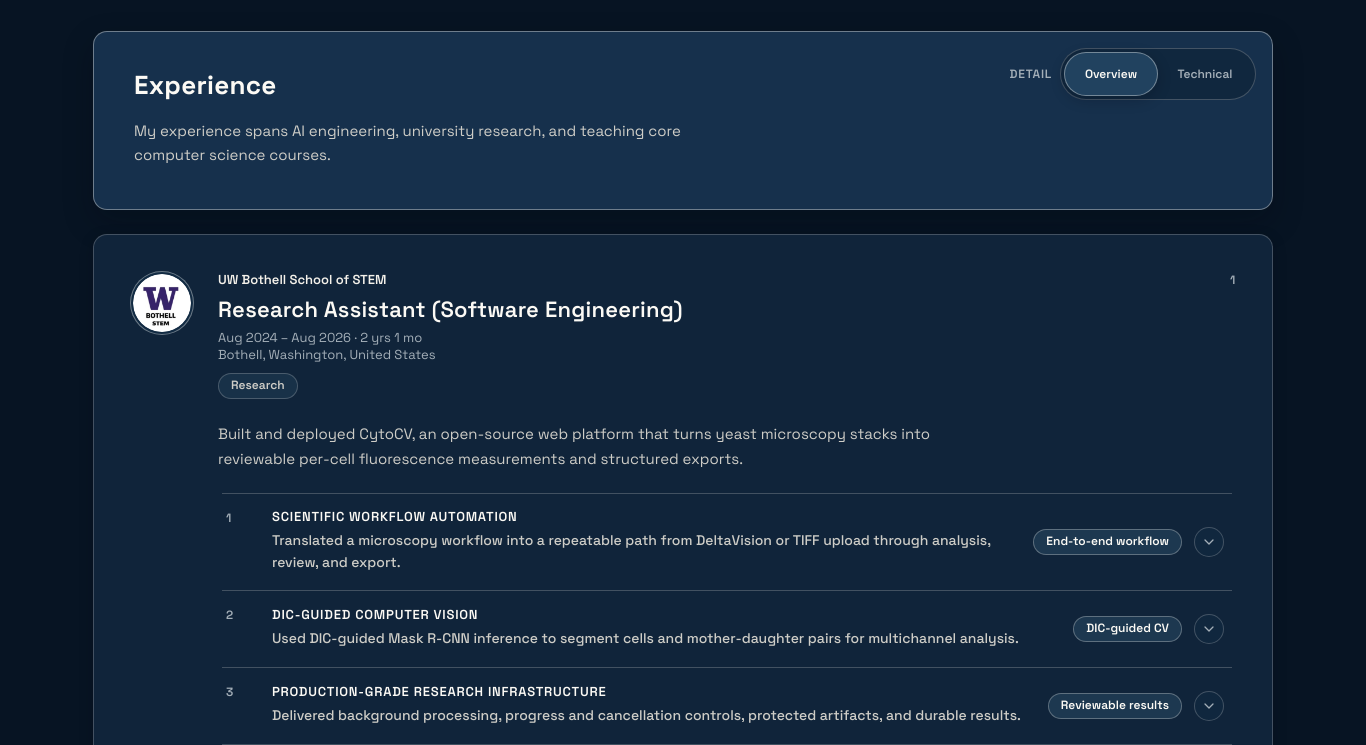
Test case: ExperienceShowcase › keeps one selected chapter across roles and closes it with Escape or a noninteractive card click
Click the button "Scientific Workflow Automation": (727, 542) [218,494,1236,590]
(page scrolled)
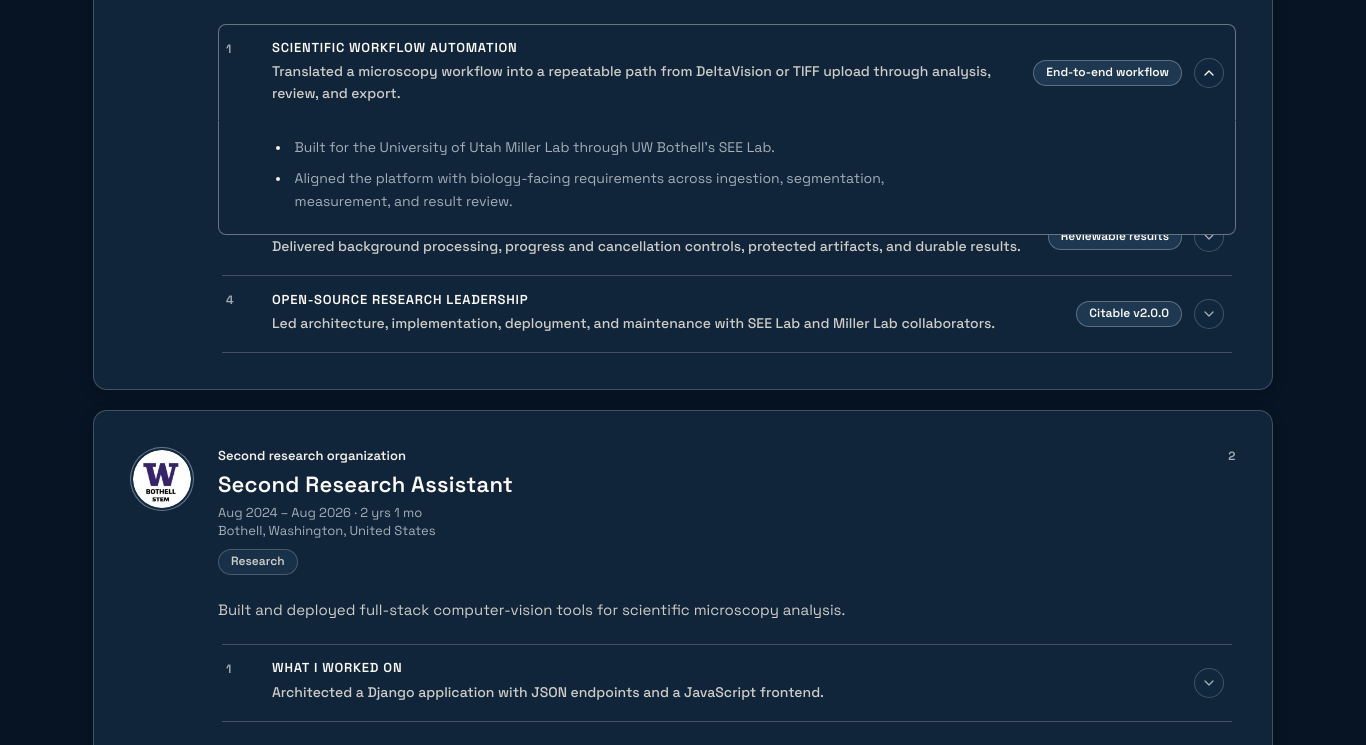
Expected: the button "Scientific Workflow Automation" is expanded, [218,25,1236,121]
Click the button with class "detail-section__trigger" that starts with "What I worked on": (727, 682) [218,644,1236,720]
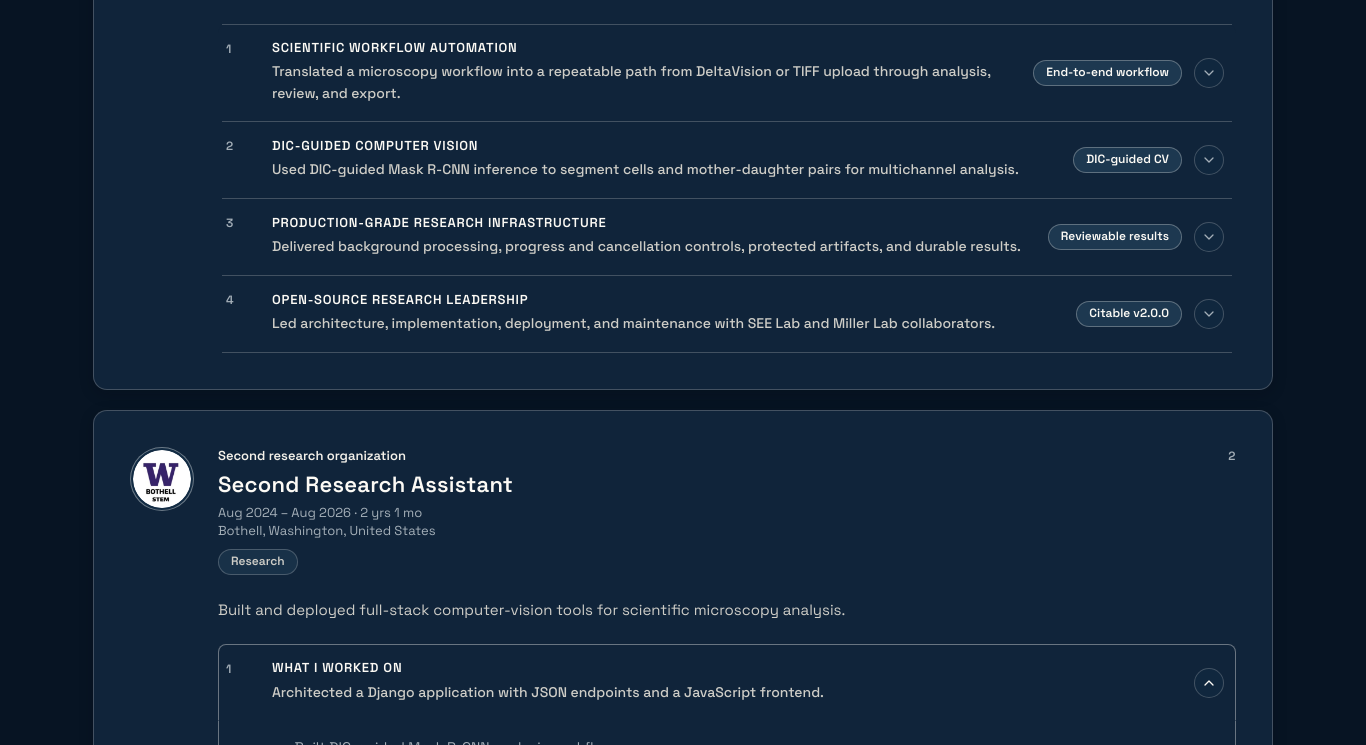
Expected: the button "Scientific Workflow Automation" is collapsed, [218,25,1236,121]
Expected: the button with class "detail-section__trigger" is expanded
Press Escape in the button with class "detail-section__trigger" that starts with "What I worked on", box [218,644,1236,720]
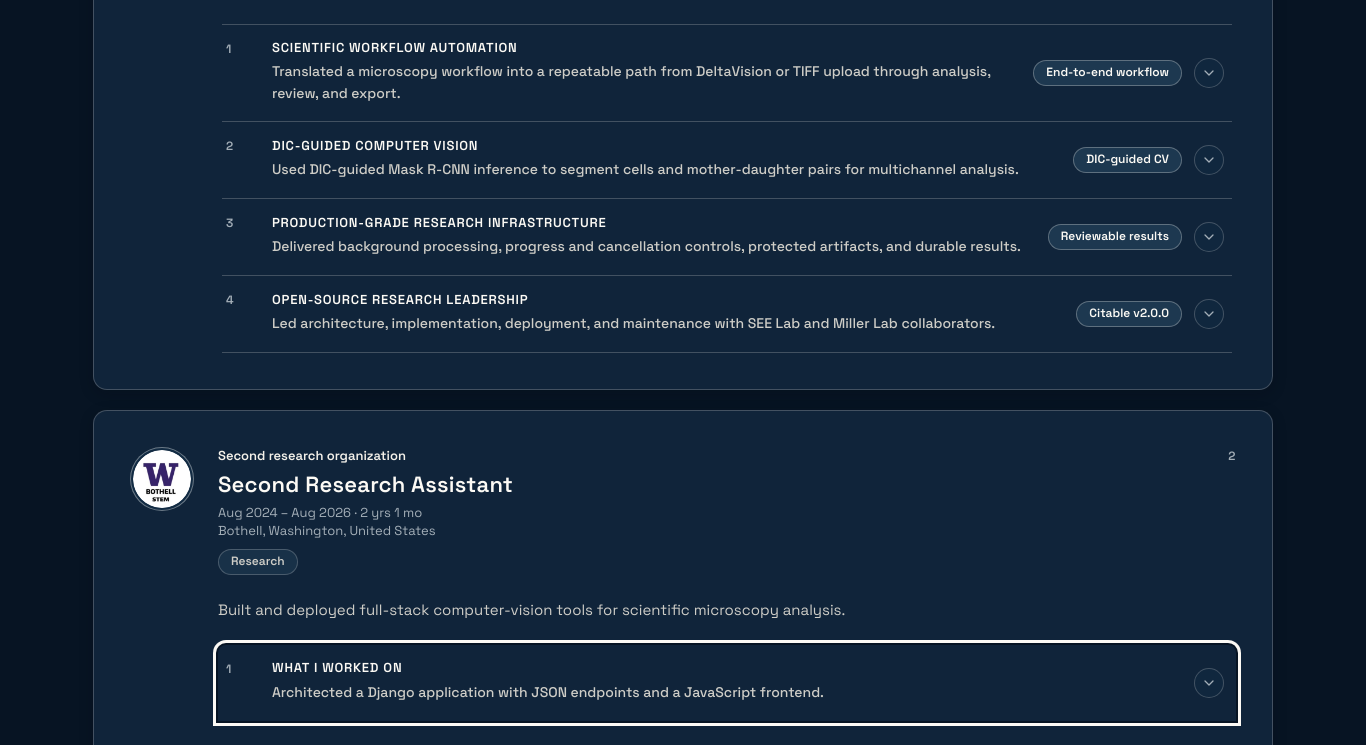
Expected: the button with class "detail-section__trigger" is collapsed
Click the button with class "detail-section__trigger" that starts with "What I worked on": (727, 682) [218,644,1236,720]
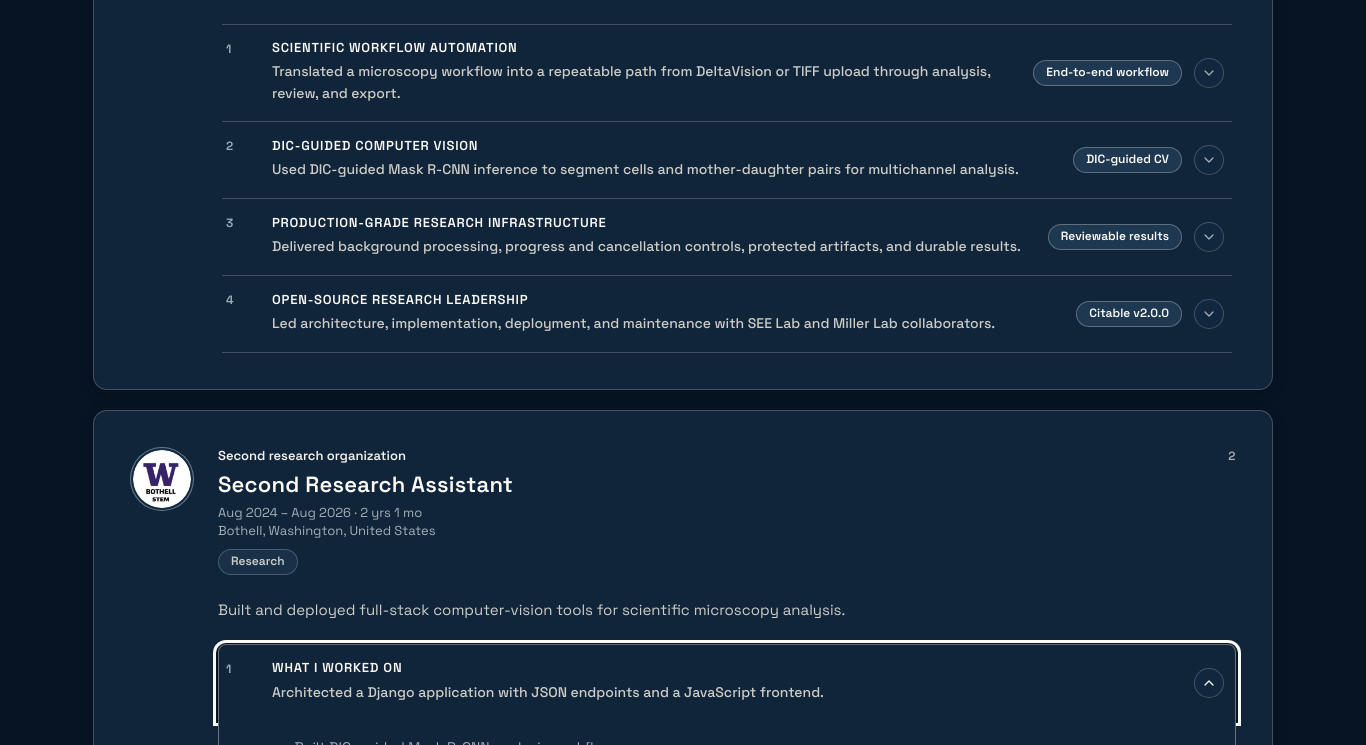
Expected: the button with class "detail-section__trigger" is expanded, [218,644,1236,720]
Click the text "Second research organization": (312, 456) [218,448,406,463]
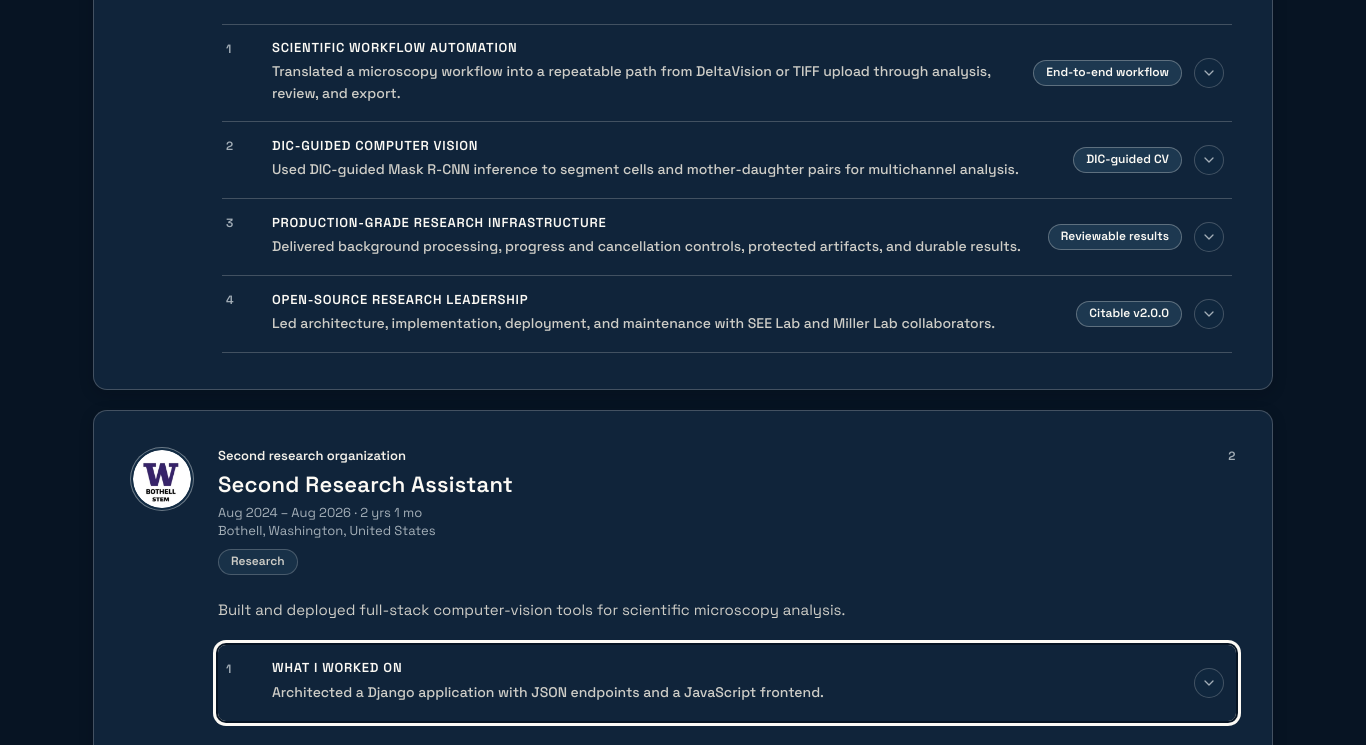
Expected: the button with class "detail-section__trigger" is collapsed, [218,644,1236,720]
